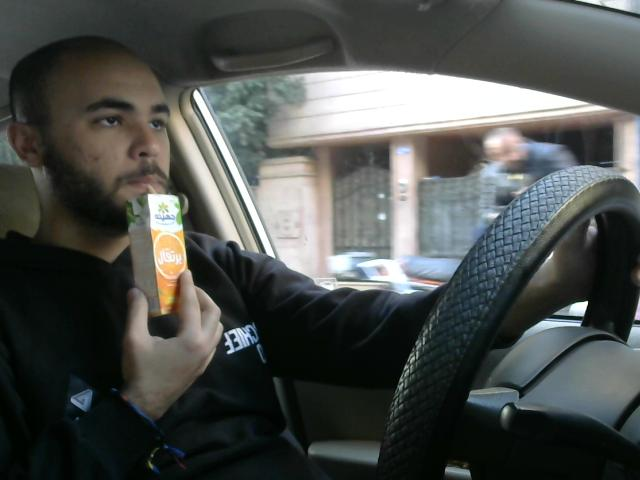Drinking: (9, 51, 193, 347)
